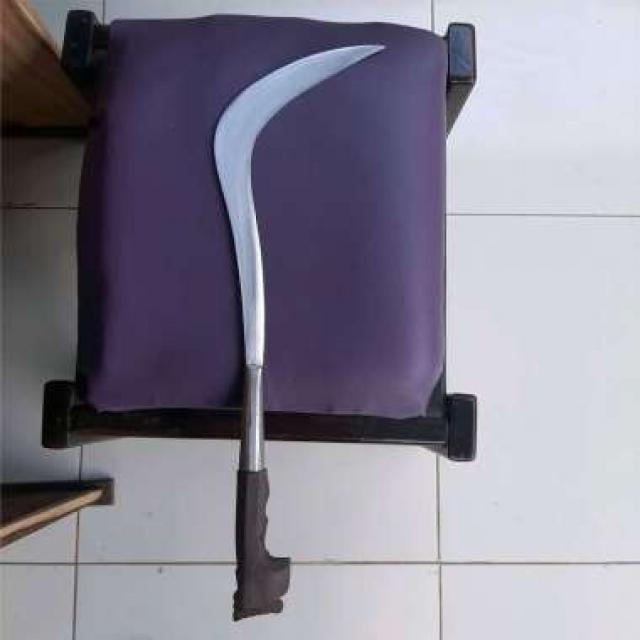machete: (214, 42, 388, 619)
